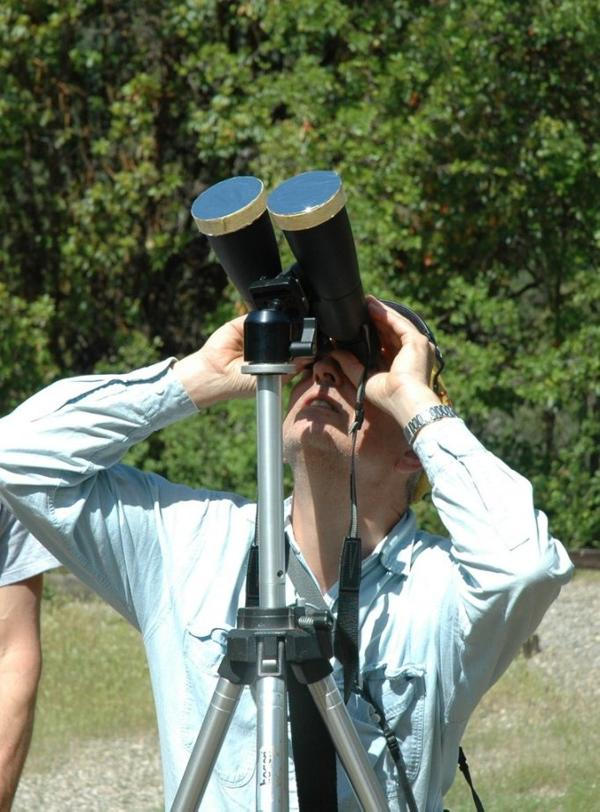person: (4, 291, 571, 810)
